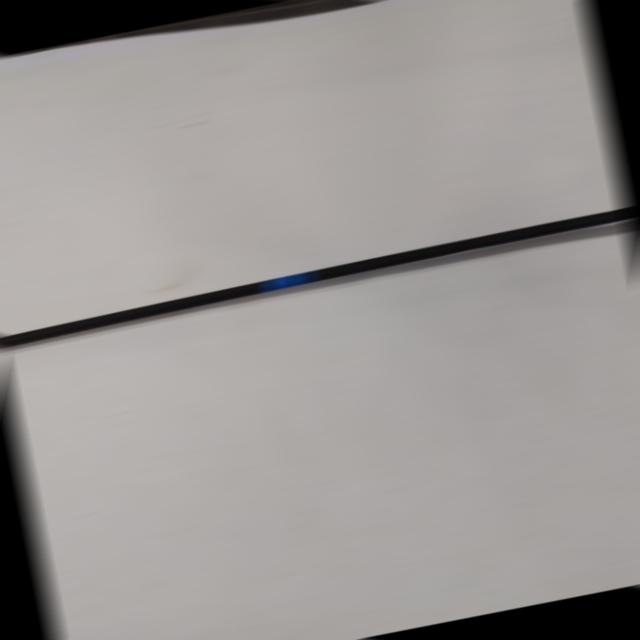blue: (263, 271, 312, 291)
